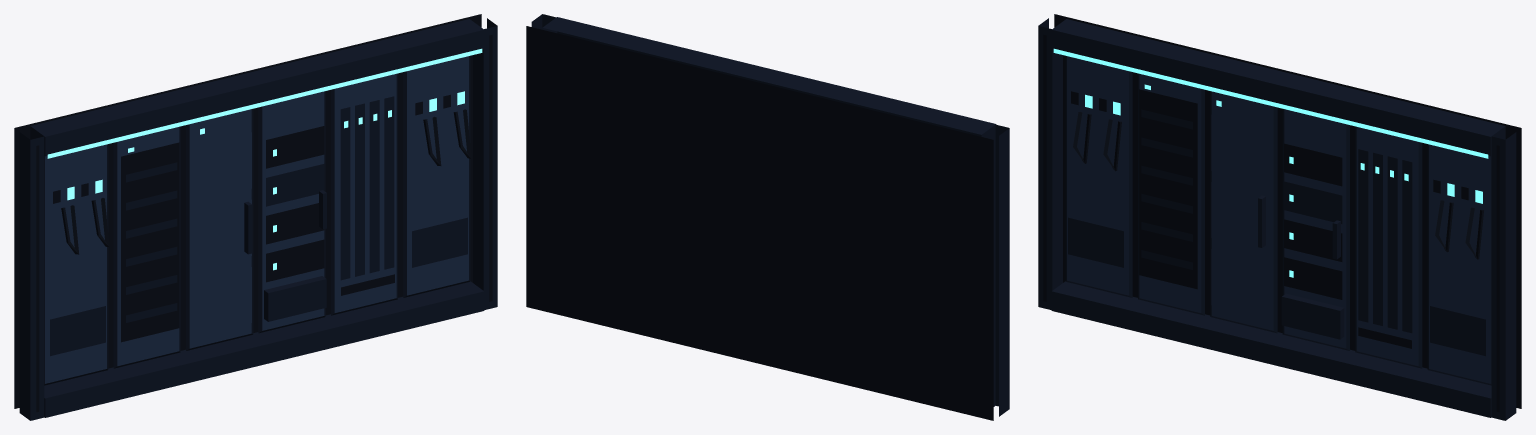
The model's file is RackFacade_V03.fbx.
3 renders of one model, left to right at view 1: azimuth 30°, elevation 25°; view 2: azimuth 150°, elevation 25°; view 3: azimuth 330°, elevation 25°, orthographic.
Parts seen in each view (by area): view 1: KIT_RackFacade_V03_Mesh; view 2: KIT_RackFacade_V03_Mesh; view 3: KIT_RackFacade_V03_Mesh.
Part boxes in pixels (box(x1,y1,x2,y2)): KIT_RackFacade_V03_Mesh: box(14, 14, 497, 420); KIT_RackFacade_V03_Mesh: box(526, 14, 1009, 420); KIT_RackFacade_V03_Mesh: box(1038, 14, 1521, 420).
Bounding box in the file's own units: 4 × 2.3 × 0.2645.
